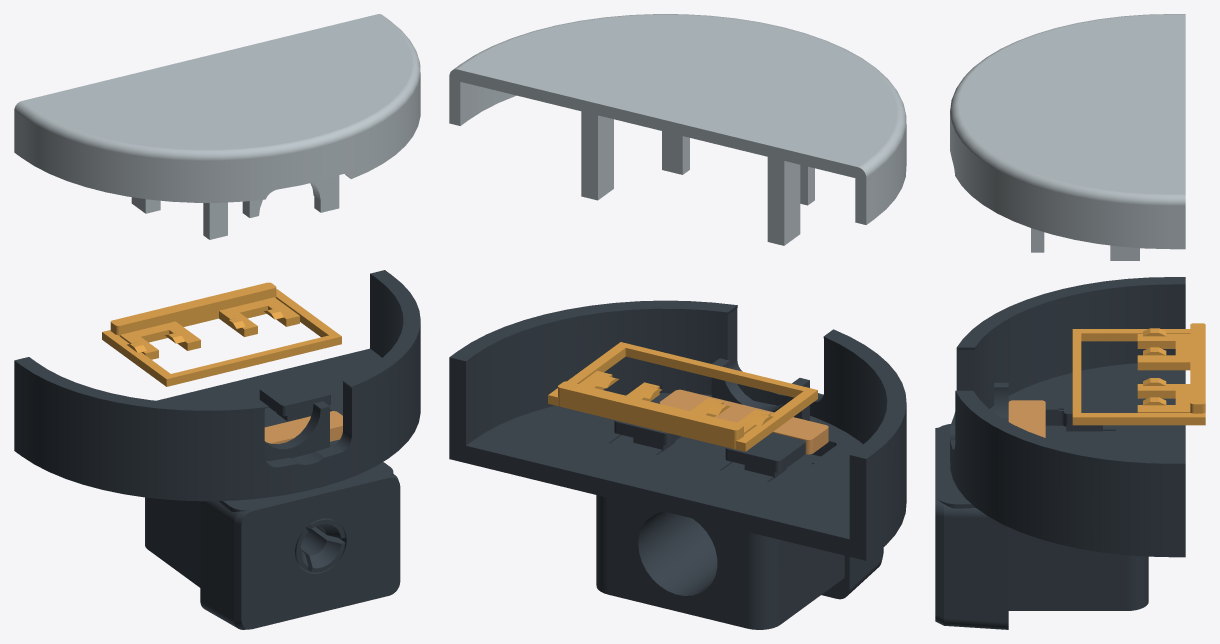
File: mount_assembly_detail.glb
3 views of the same model, side by side, from view 1: azimuth 30°, elevation 25°; view 2: azimuth 150°, elevation 25°; view 3: azimuth 270°, elevation 25° (orthographic). The views are drawn at different scales.
Parts seen in each view (by area): view 1: front_end_section/part5, rear_end_section/part1, v2_2_fitted_heel_integral_4p35_socket, v2_2_preload_fork_slide_toward_USB, v2_internal_heel_and_socket_keeper; view 2: rear_end_section/part1, front_end_section/part5, v2_2_fitted_heel_integral_4p35_socket, v2_2_preload_fork_slide_toward_USB, v2_internal_heel_and_socket_keeper; view 3: rear_end_section/part1, front_end_section/part5, v2_2_fitted_heel_integral_4p35_socket, v2_2_preload_fork_slide_toward_USB, v2_internal_heel_and_socket_keeper.
Part boxes in pixels (bbox=[...]): front_end_section/part5: bbox=[14, 14, 420, 239]; rear_end_section/part1: bbox=[14, 270, 420, 501]; v2_2_fitted_heel_integral_4p35_socket: bbox=[145, 377, 400, 629]; v2_2_preload_fork_slide_toward_USB: bbox=[102, 282, 341, 386]; v2_internal_heel_and_socket_keeper: bbox=[264, 411, 342, 443]; rear_end_section/part1: bbox=[449, 300, 906, 560]; front_end_section/part5: bbox=[449, 14, 906, 245]; v2_2_fitted_heel_integral_4p35_socket: bbox=[596, 420, 883, 629]; v2_2_preload_fork_slide_toward_USB: bbox=[548, 342, 817, 451]; v2_internal_heel_and_socket_keeper: bbox=[659, 389, 828, 454]; rear_end_section/part1: bbox=[950, 277, 1185, 557]; front_end_section/part5: bbox=[950, 14, 1185, 260]; v2_2_fitted_heel_integral_4p35_socket: bbox=[935, 389, 1148, 629]; v2_2_preload_fork_slide_toward_USB: bbox=[1072, 323, 1205, 425]; v2_internal_heel_and_socket_keeper: bbox=[1008, 400, 1045, 437].
Bounding box in the file's own units: 0.06 × 0.073 × 0.0368.
